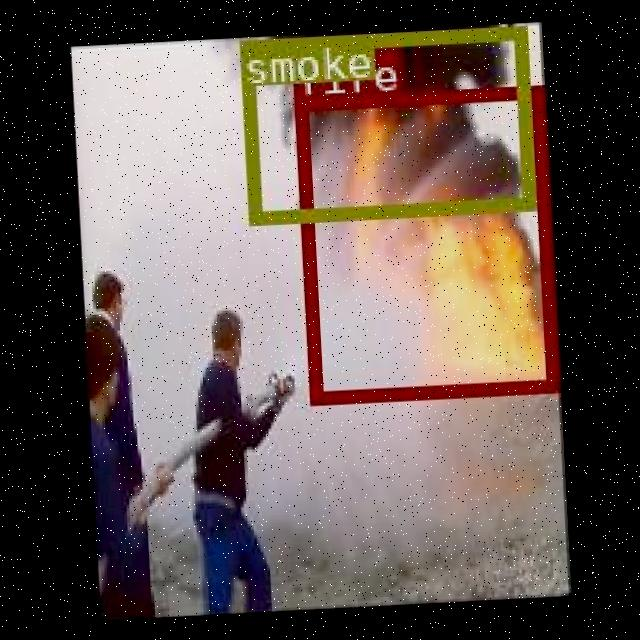fire: (294, 82, 558, 404)
smoke: (239, 23, 533, 224)
